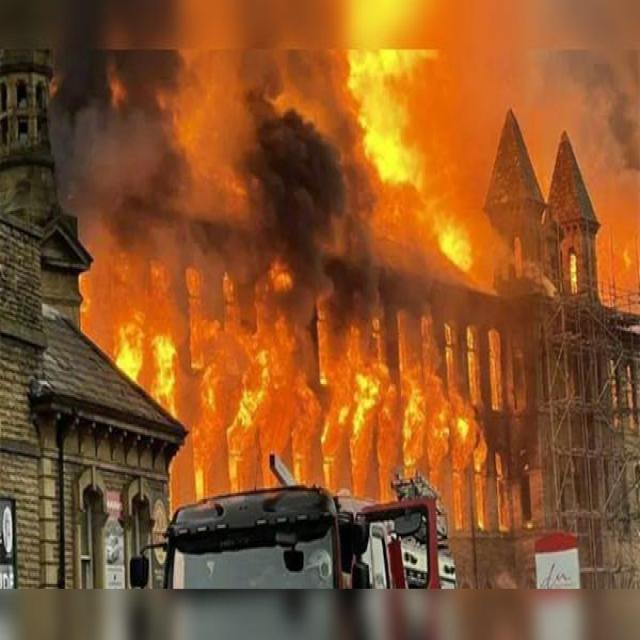Fire: (343, 49, 436, 182), (228, 360, 270, 434), (350, 370, 378, 440), (114, 316, 144, 380), (151, 336, 178, 406), (438, 224, 472, 274)
